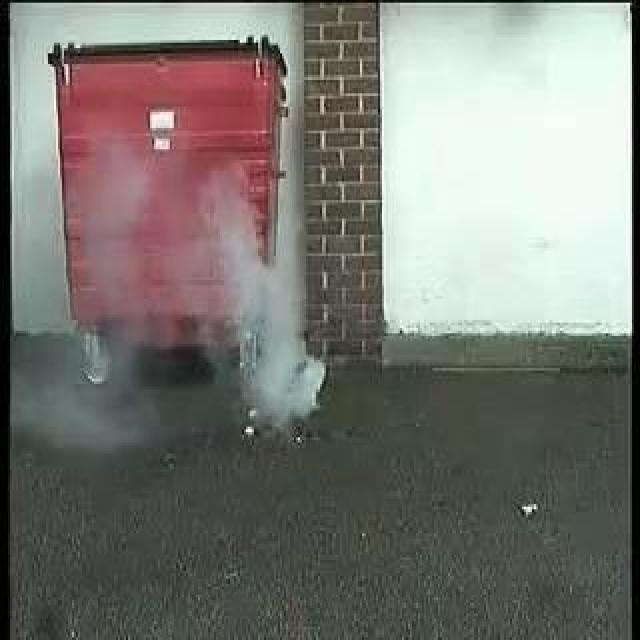Smoke: (205, 182, 329, 430)
